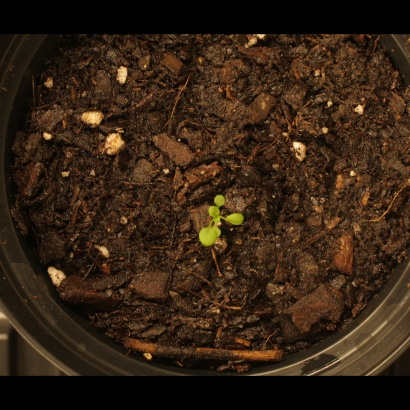leaf: (228, 209, 251, 232), (208, 184, 231, 207), (192, 224, 215, 247), (206, 225, 229, 248), (200, 201, 223, 224)
